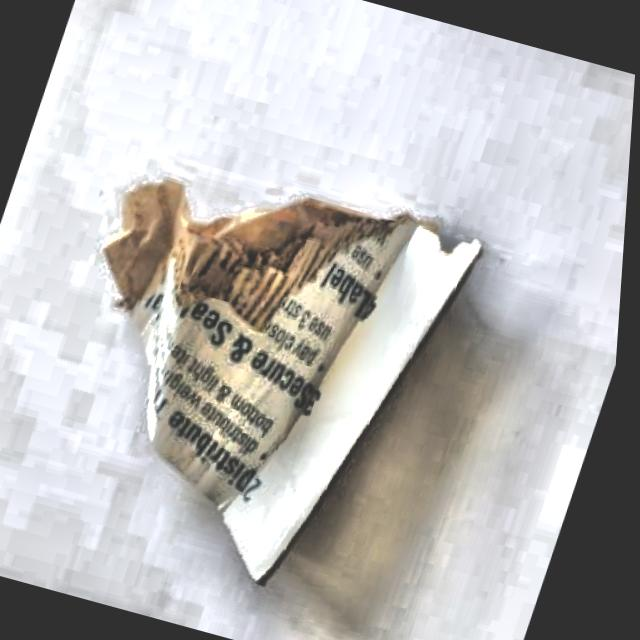Cardbox: (0, 97, 515, 636)
